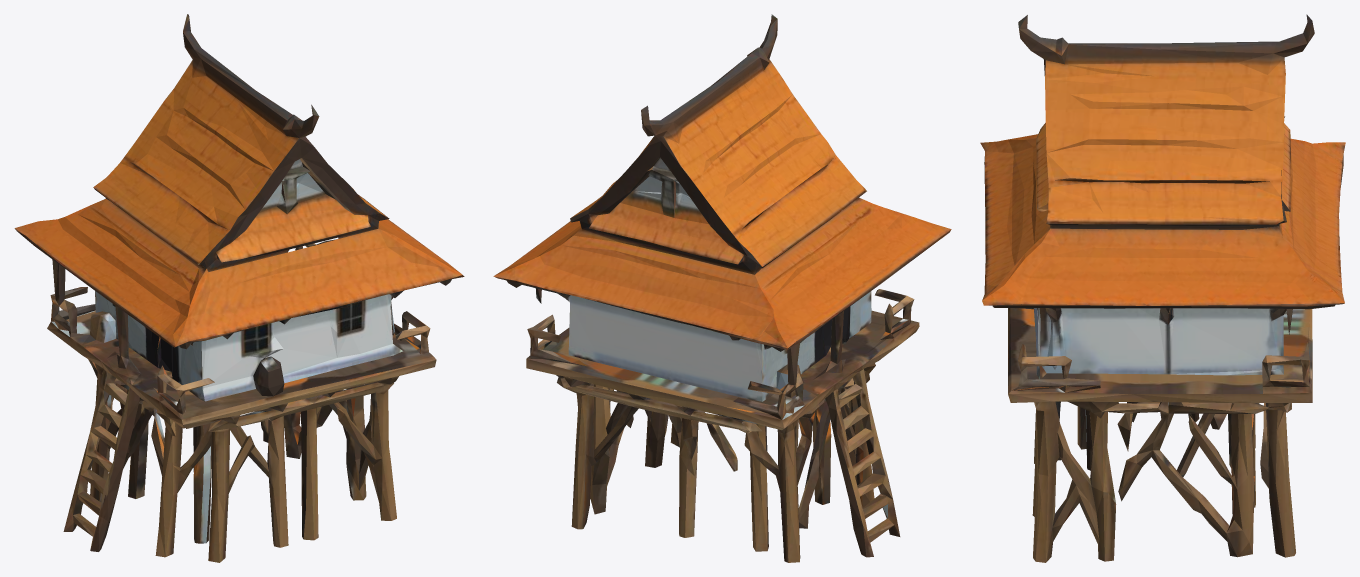
The model's file is ayutthaya_casa.glb.
The picture shows the model from 3 angles, left to right: view 1: azimuth 30°, elevation 25°; view 2: azimuth 150°, elevation 25°; view 3: azimuth 270°, elevation 25°; orthographic projection. The views are drawn at different scales.
Parts seen in each view (by area): view 1: geometry_0; view 2: geometry_0; view 3: geometry_0.
Part boxes in pixels (x1,y1,x2,y2): geometry_0: (14, 14, 464, 562); geometry_0: (493, 14, 951, 562); geometry_0: (980, 14, 1345, 562).
Bounding box in the file's own units: 1.4 × 1.9 × 1.26.
1 material, 1 textured.
